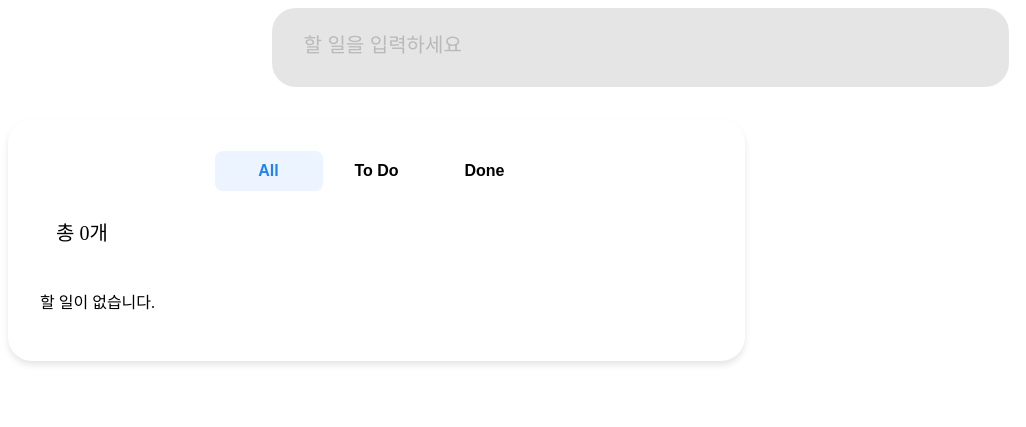
Scenario: TodoList Component › 할 일을 추가하면 목록에 반영된다
Type "새로운 할 일" into the field with placeholder "할 일을 입력하세요" at (640, 48), box x1=272 y1=8 x2=1008 y2=87
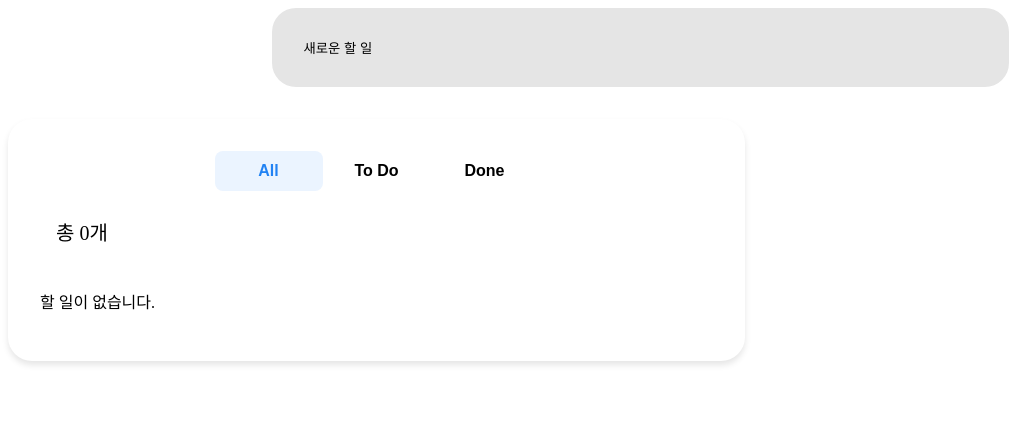
Press Enter in the field with placeholder "할 일을 입력하세요", box x1=272 y1=8 x2=1008 y2=87
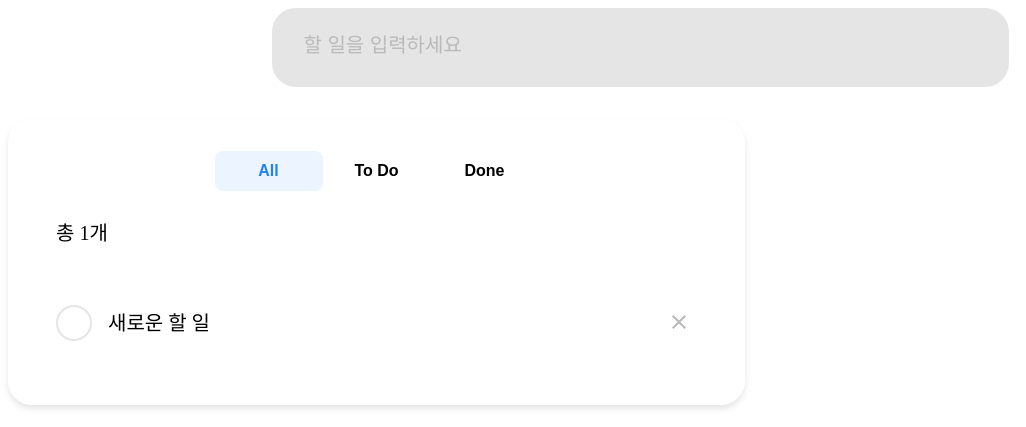
Expected: the text "새로운 할 일" is shown, x1=108 y1=309 x2=210 y2=337
